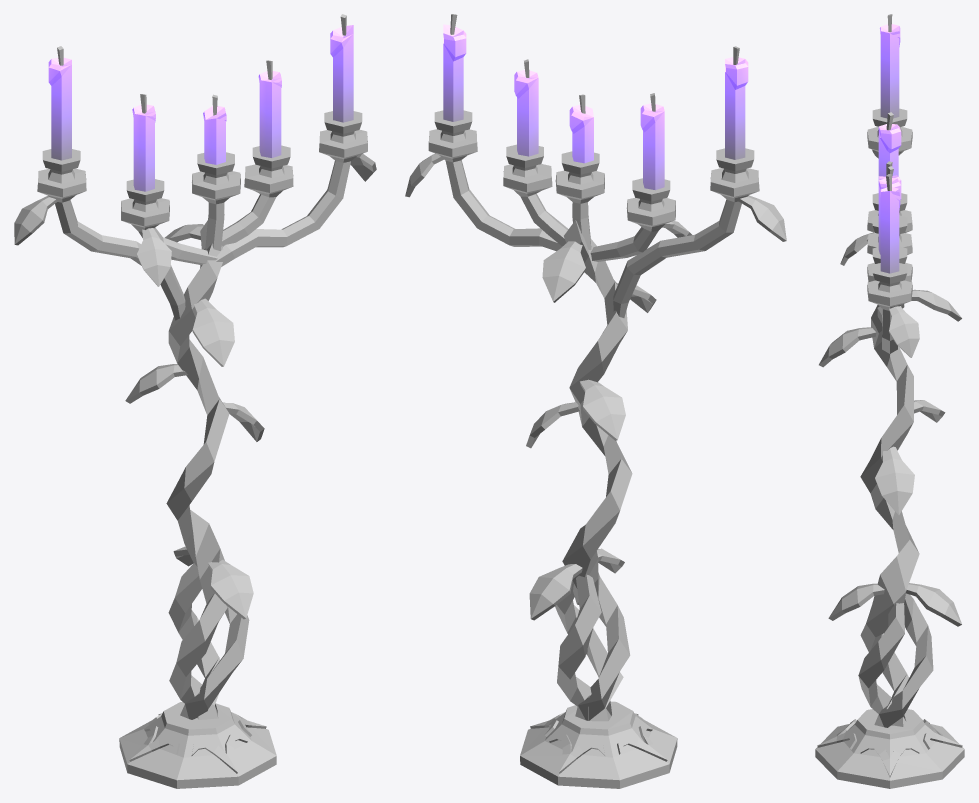
Rendered from SM_Prop_Candle_Stand_01.fbx.
The picture shows the model from 3 angles, left to right: view 1: azimuth 30°, elevation 25°; view 2: azimuth 150°, elevation 25°; view 3: azimuth 270°, elevation 25°; orthographic projection. The views are drawn at different scales.
Parts seen in each view (by area): view 1: SM_Prop_Candle_Stand_01; view 2: SM_Prop_Candle_Stand_01; view 3: SM_Prop_Candle_Stand_01.
Part boxes in pixels (box(x1,y1,x2,y2)): SM_Prop_Candle_Stand_01: box(14, 14, 376, 788); SM_Prop_Candle_Stand_01: box(405, 14, 786, 788); SM_Prop_Candle_Stand_01: box(815, 14, 964, 788).
Bounding box in the file's own units: 101 × 195 × 38.6.
